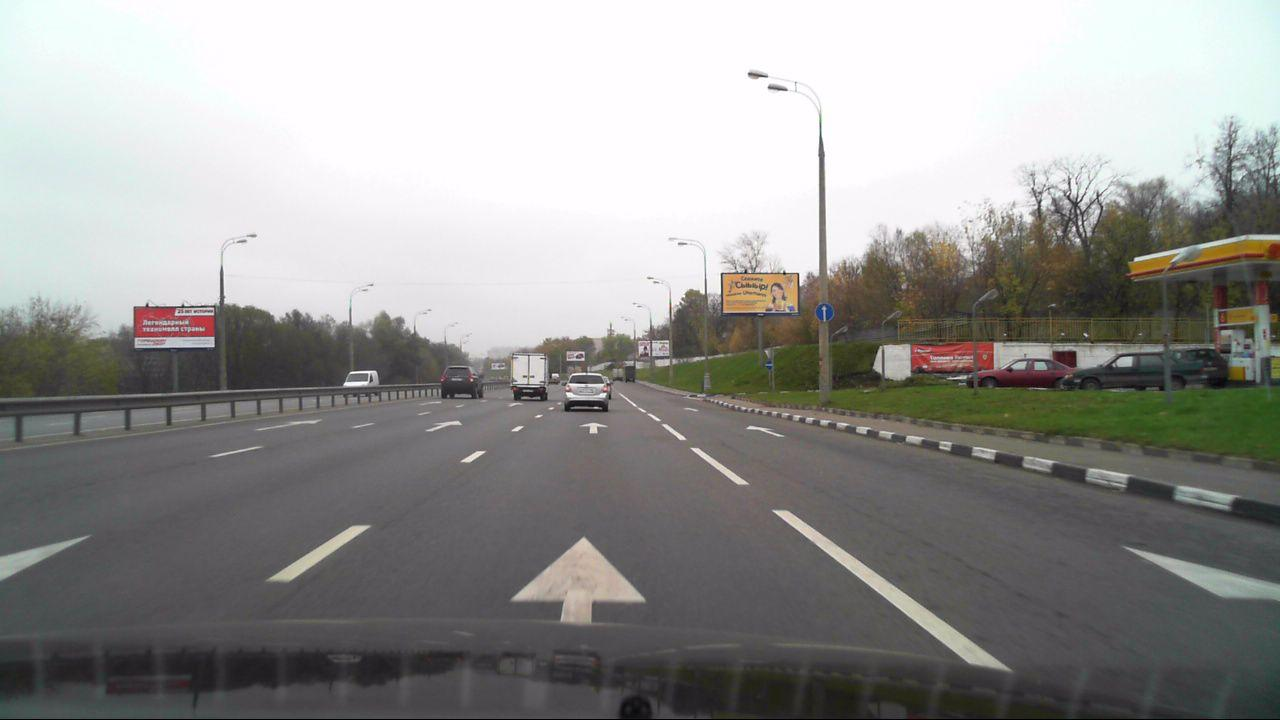road_sign: (814, 302, 835, 322)
